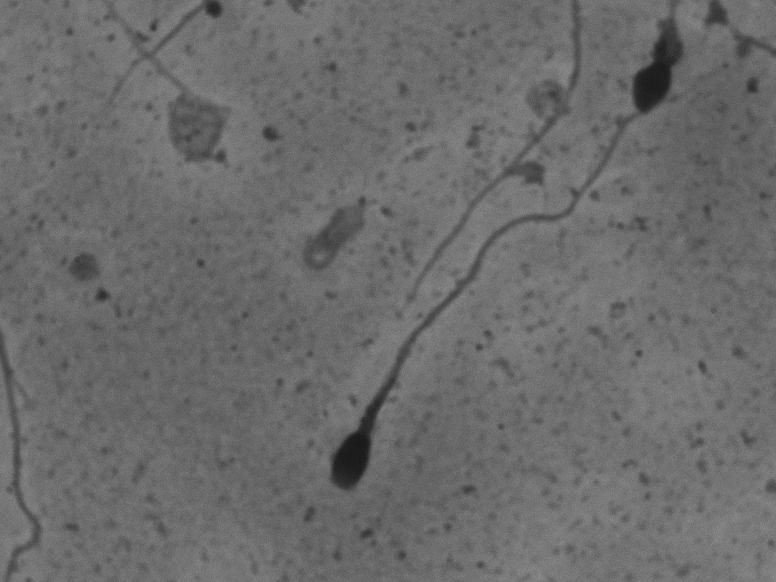Normal: (306, 110, 654, 509)
